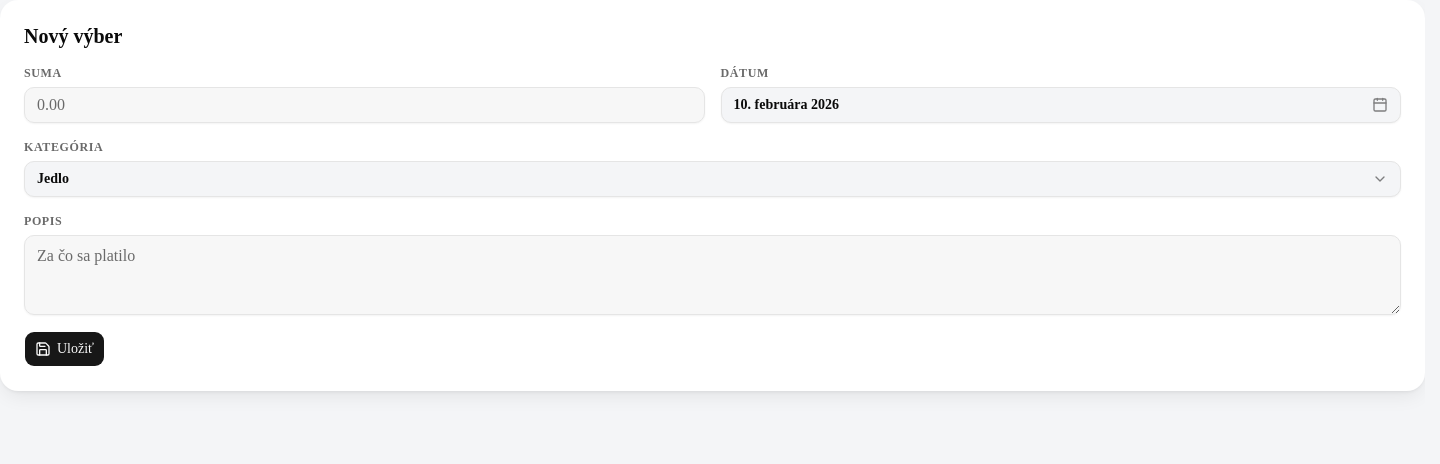
Test: errors › renders the localized message for unauthorized
Type "42.50" into the number field labelled "Suma" at (364, 105), box [24,87,704,123]
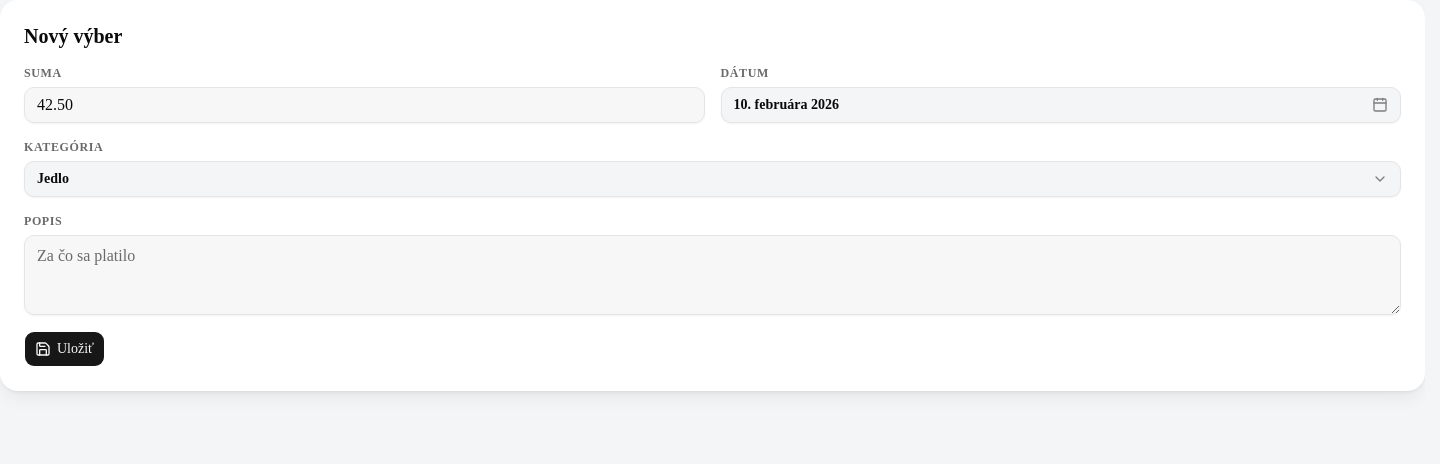
Type "Obedy po zápase" into the text box labelled "Popis" at (712, 275), box [24,235,1401,315]
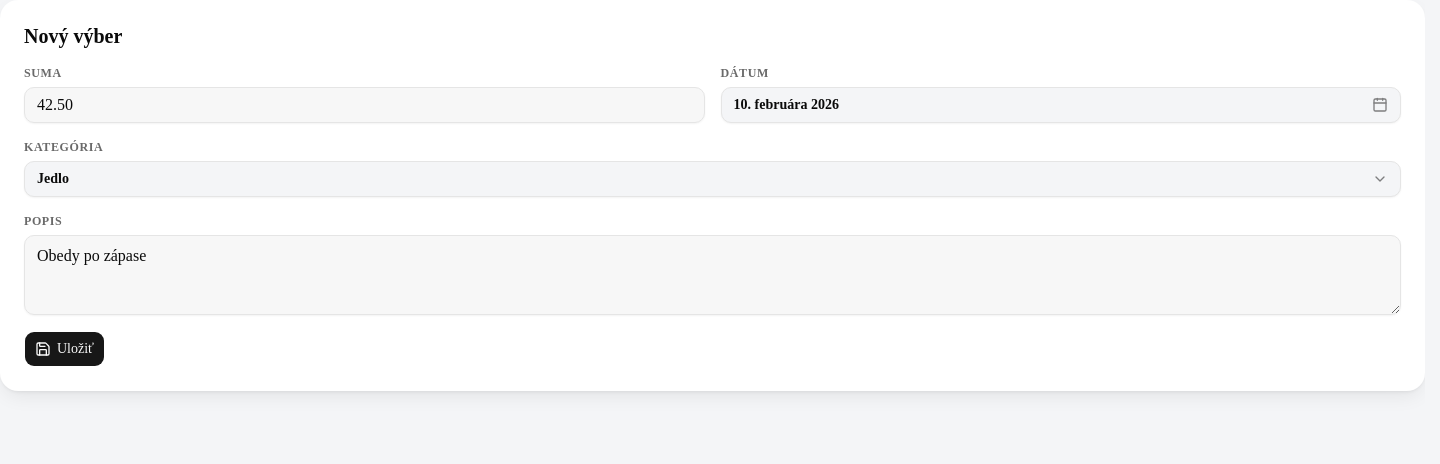
Click the button "Uložiť" at (65, 349), box [24,331,105,367]
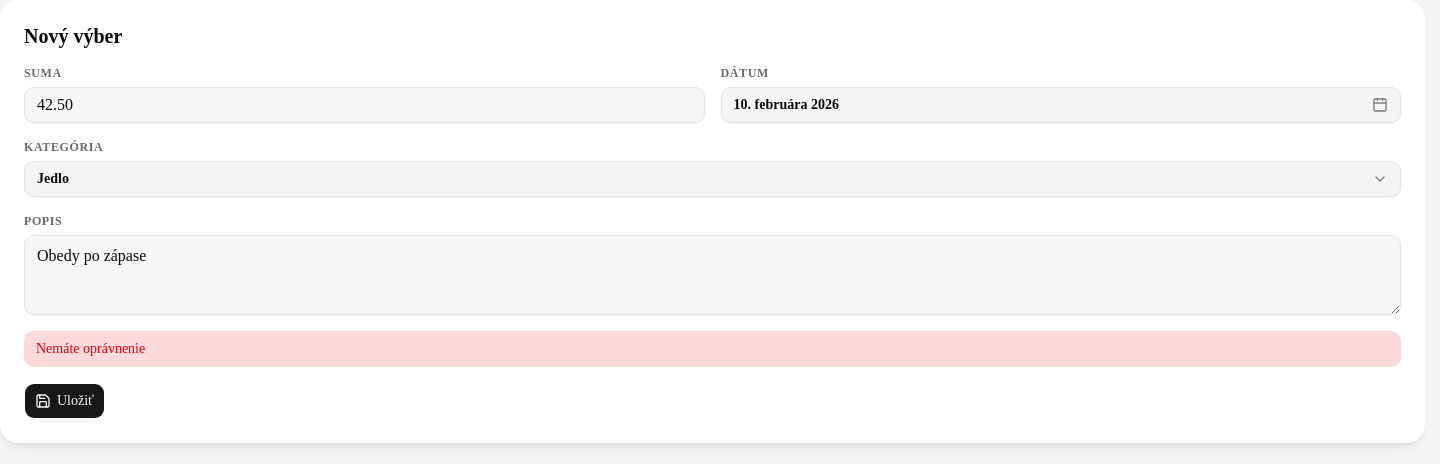
expect the text "Nemáte oprávnenie" is shown: met, box [24,331,1401,367]
